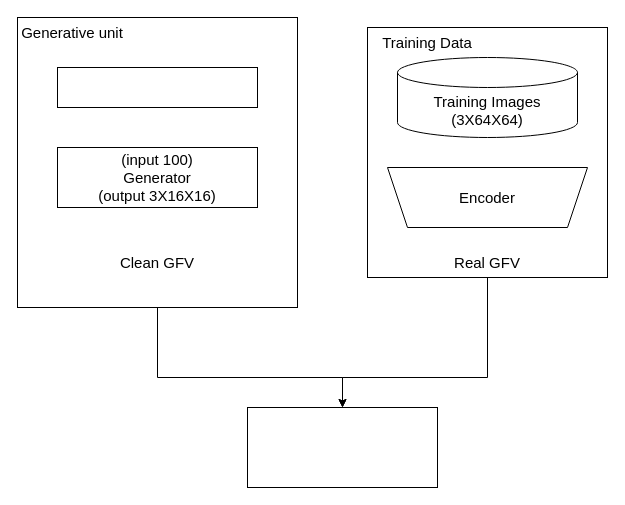
Some shapes in this 625 by 505 pixel diagram are drawn without their labels. Each missing label, with the centre of its shape:
(input 3X64X64) Discriminator (output 1X1X1): the point at 342,447
Random Noise (100): the point at 157,87
